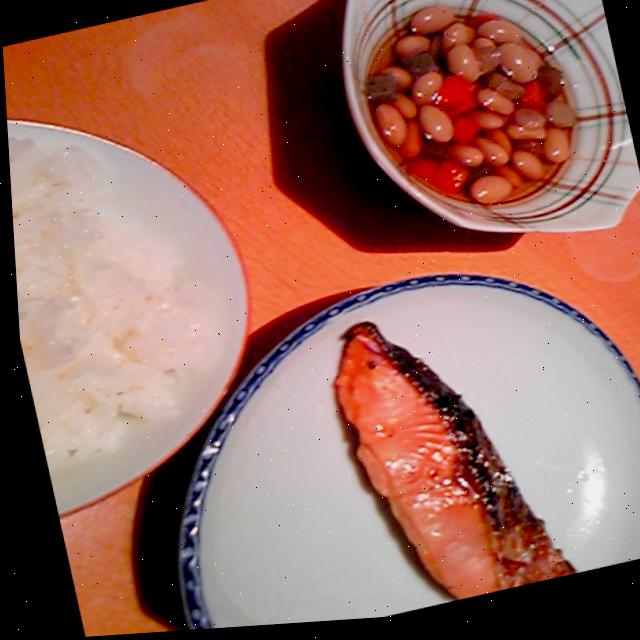熟制海鲜: (91, 232, 640, 636)
米饭主食: (3, 52, 298, 531)
